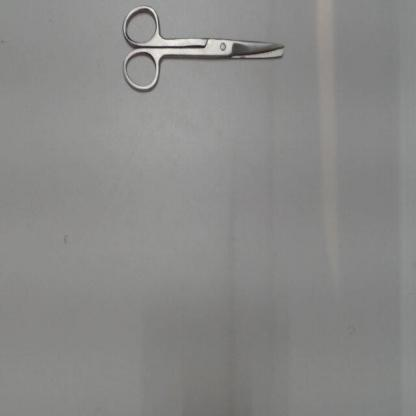Dressing Scissors: (112, 0, 292, 105)
